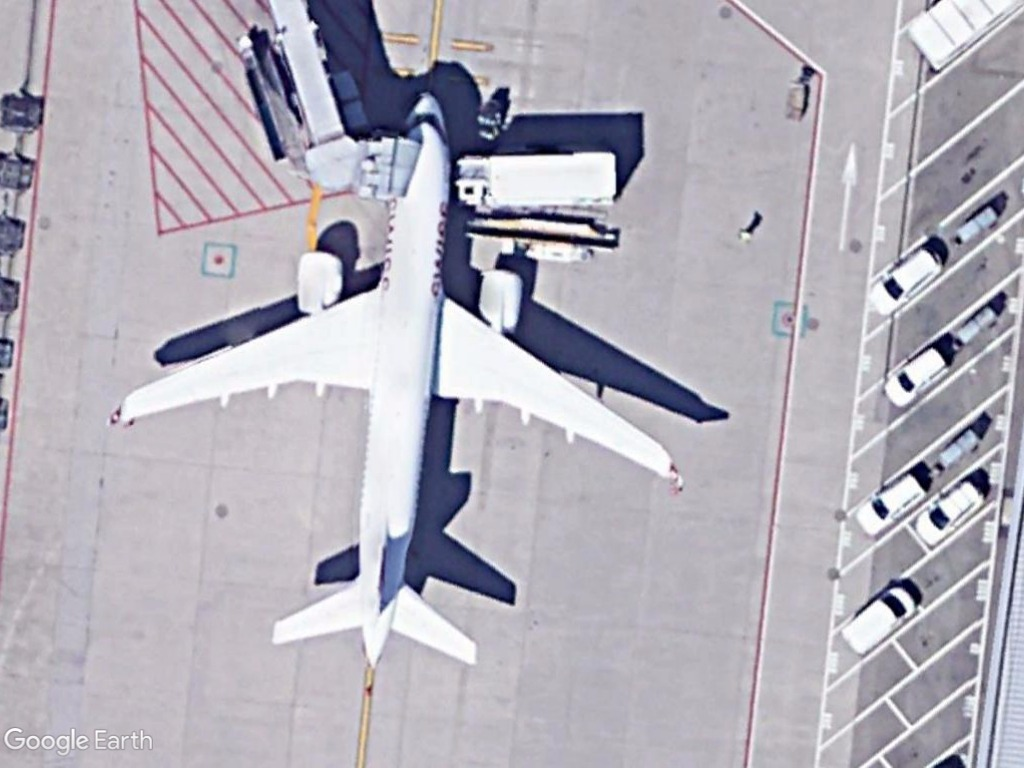airliner: (110, 83, 679, 684)
car: (867, 245, 947, 318), (911, 480, 983, 549), (853, 475, 926, 543), (882, 343, 948, 411)
truck: (449, 147, 622, 218)
van: (837, 581, 919, 656)
